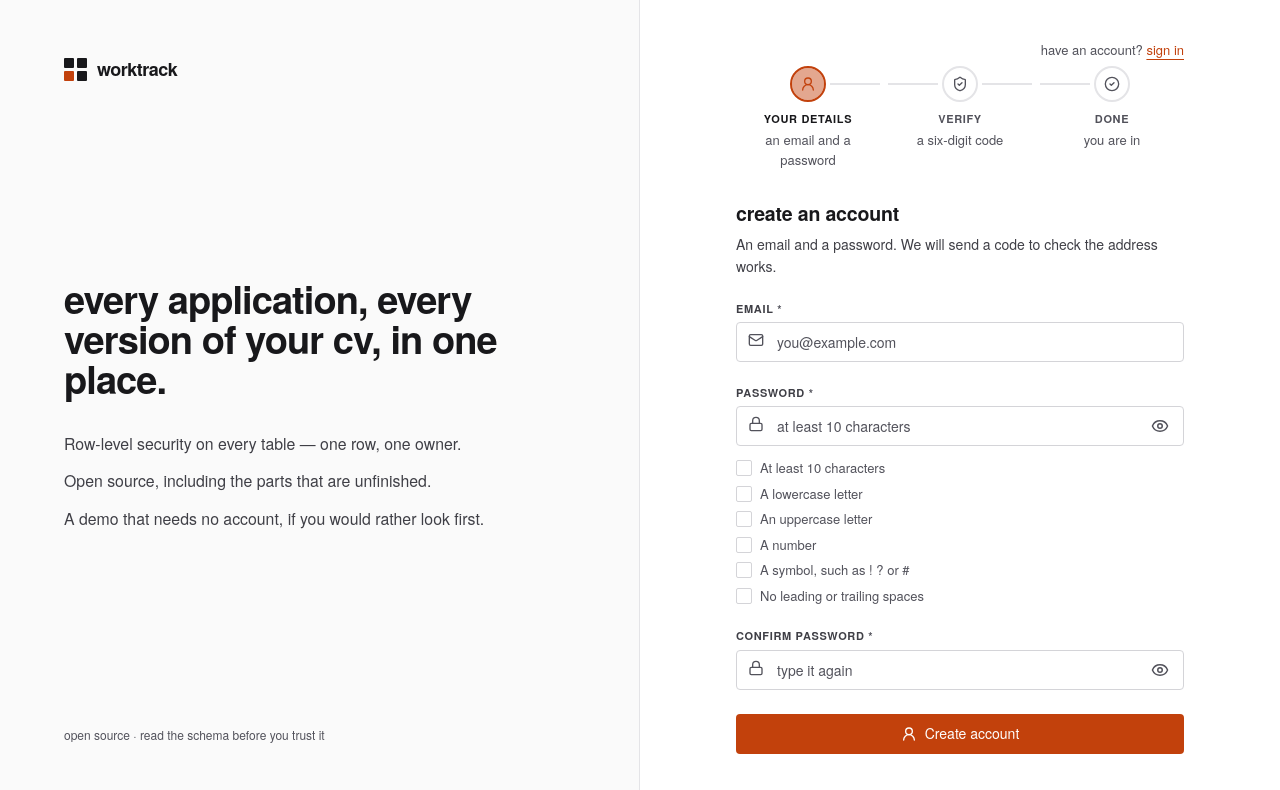
it: signing up with an address that already has an account › does not advance to the code step
Type "gabe@example.com" into the field labelled "Email *" at (960, 342), box [736,322,1184,362]
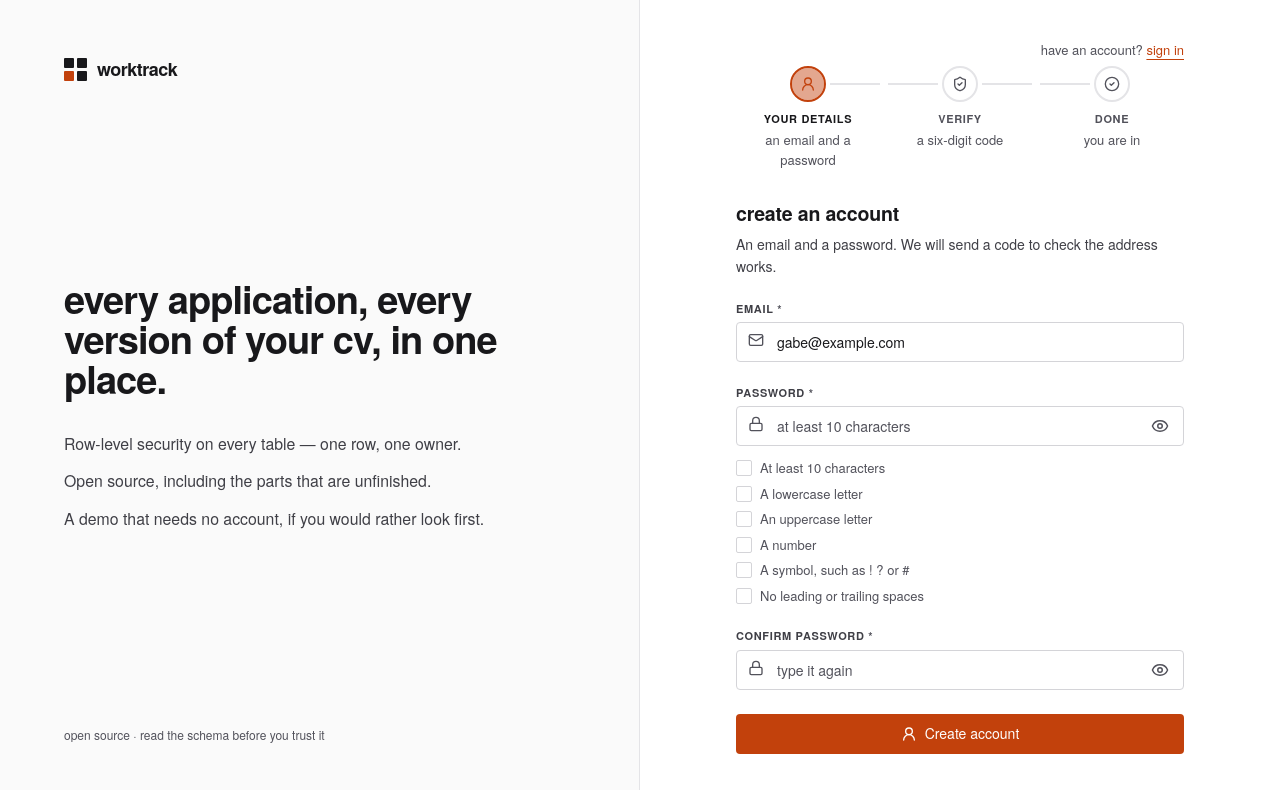
Type "Str0ng!Passw0rd" into the password field labelled "Password *" at (960, 426), box [736,406,1184,446]
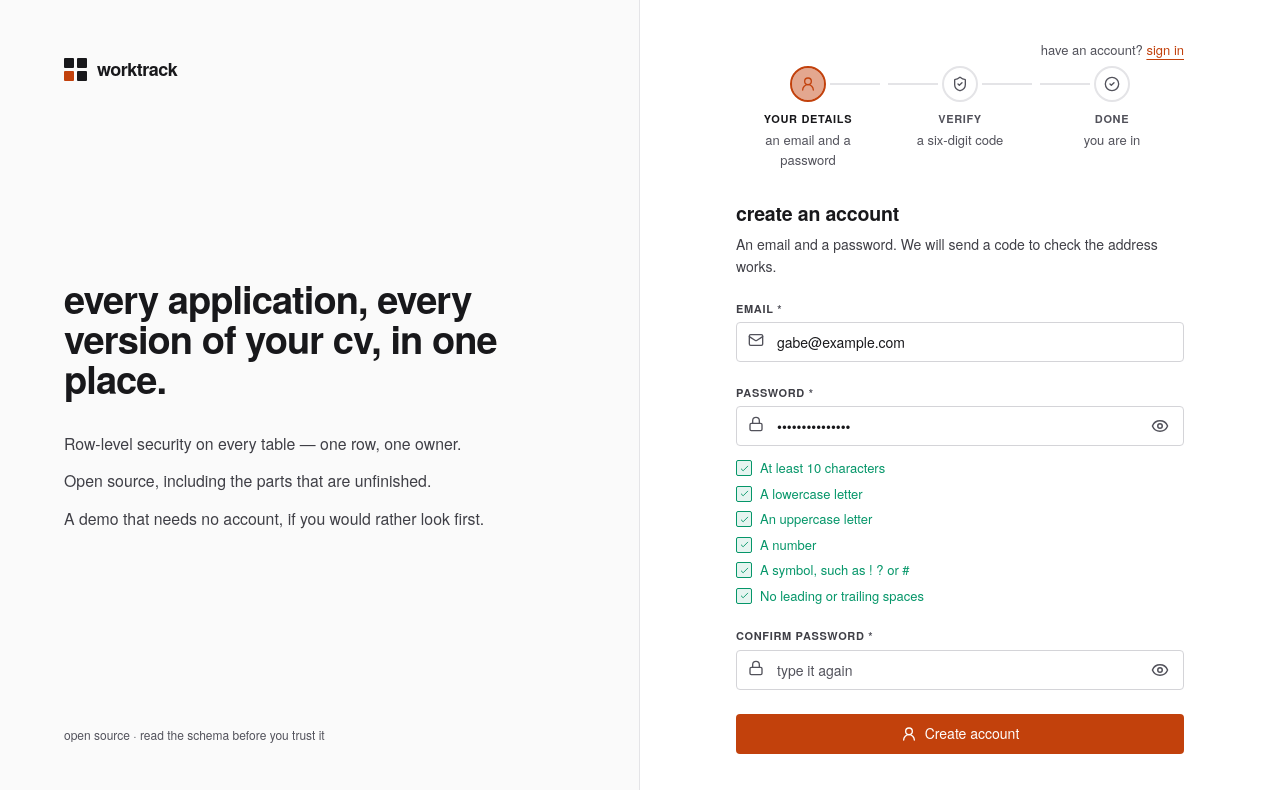
Type "Str0ng!Passw0rd" into the password field labelled "Confirm password *" at (960, 670), box [736,650,1184,690]
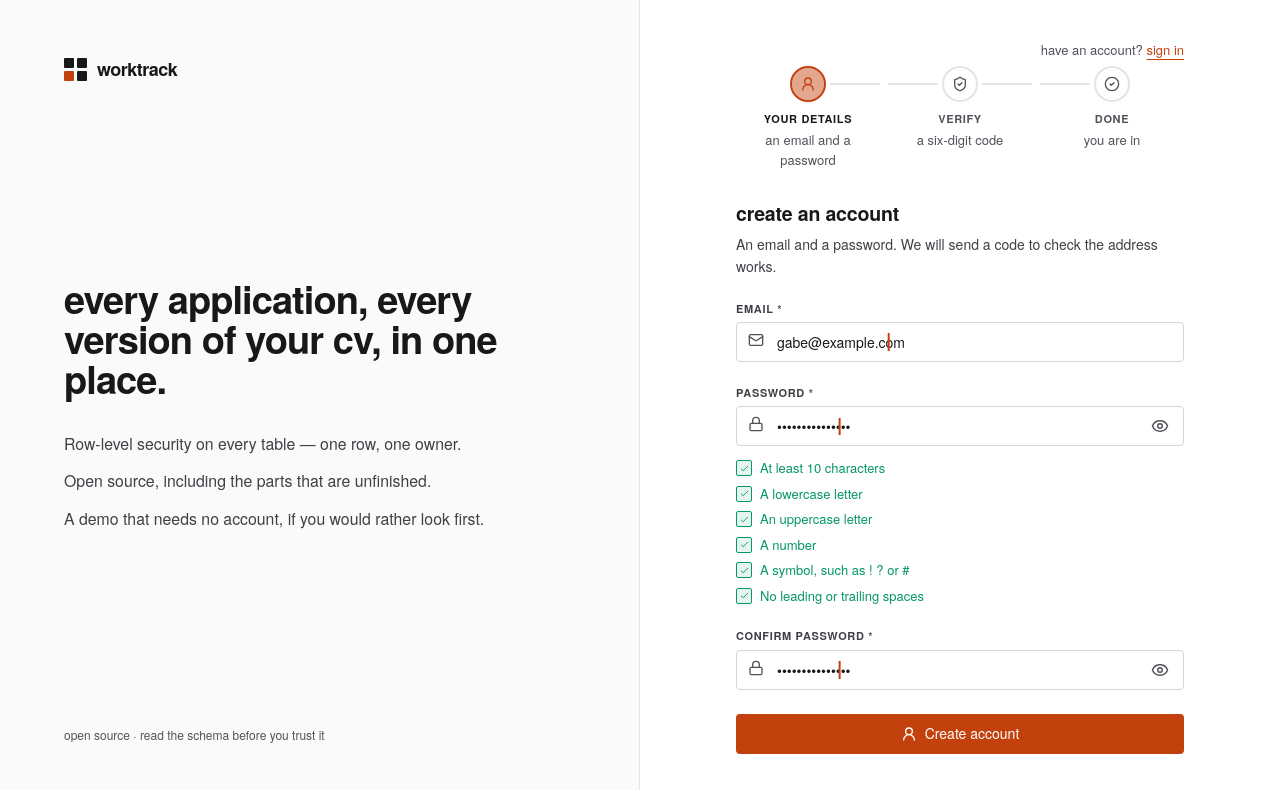
Click the button "Create account" at (960, 734), box [736,714,1184,754]
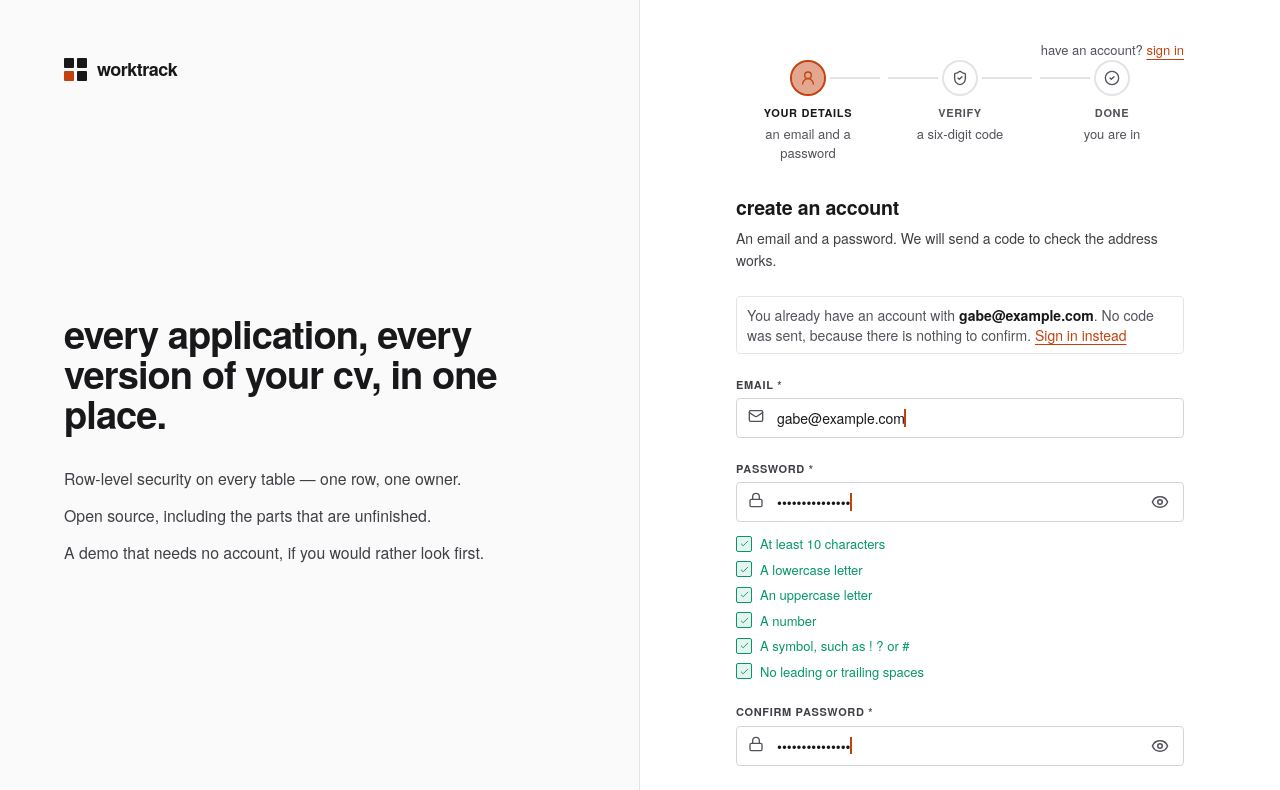
Check: the text "already have an account" is shown, box [747,305,955,325]
